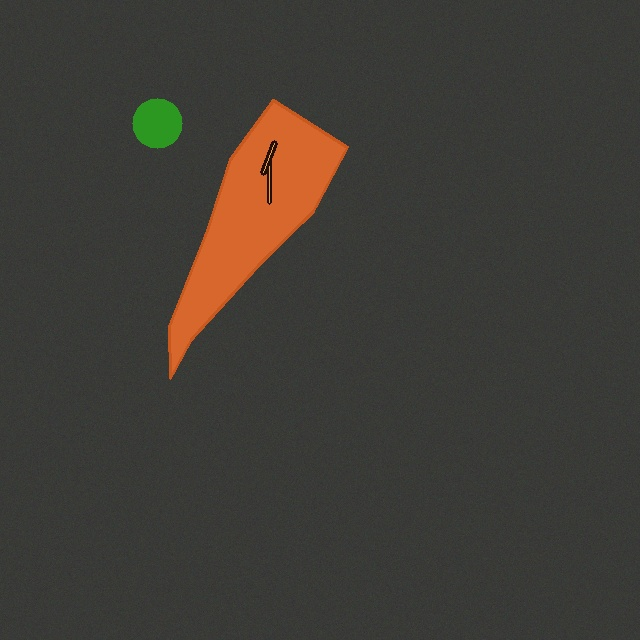Damaged_Carrot: (161, 92, 355, 386)
